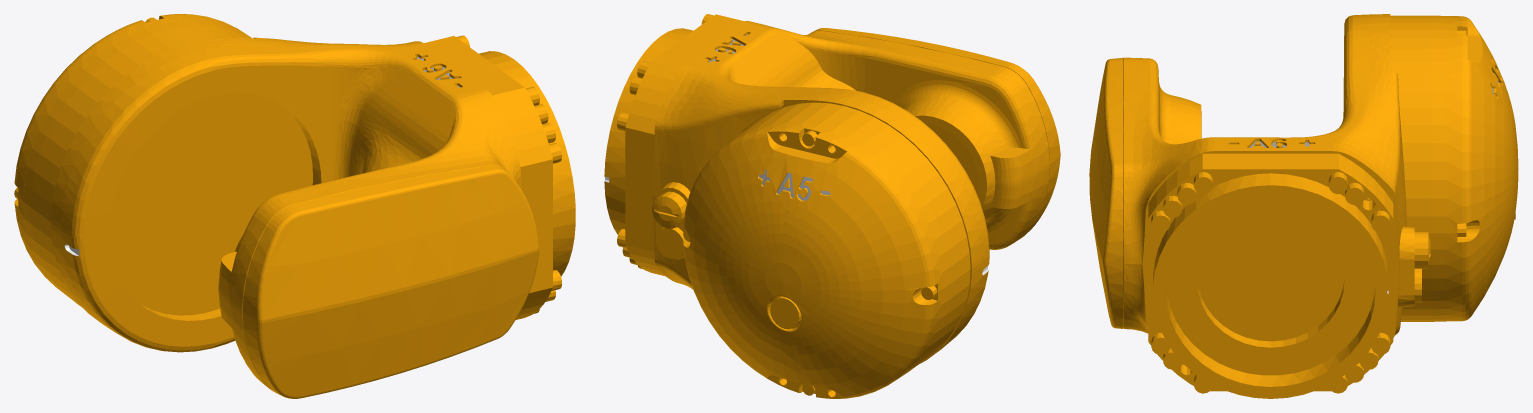
3 views of the same model, side by side, from view 1: azimuth 30°, elevation 25°; view 2: azimuth 150°, elevation 25°; view 3: azimuth 270°, elevation 25° (orthographic). The views are drawn at different scales.
Parts seen in each view (by area): view 1: link5; view 2: link5; view 3: link5.
Part boxes in pixels (x1,y1,x2,y2): link5: (14,14,575,398); link5: (604,14,1060,398); link5: (1089,14,1518,398).
Size of the model in its own units: 0.3031 by 0.291 by 0.21.
